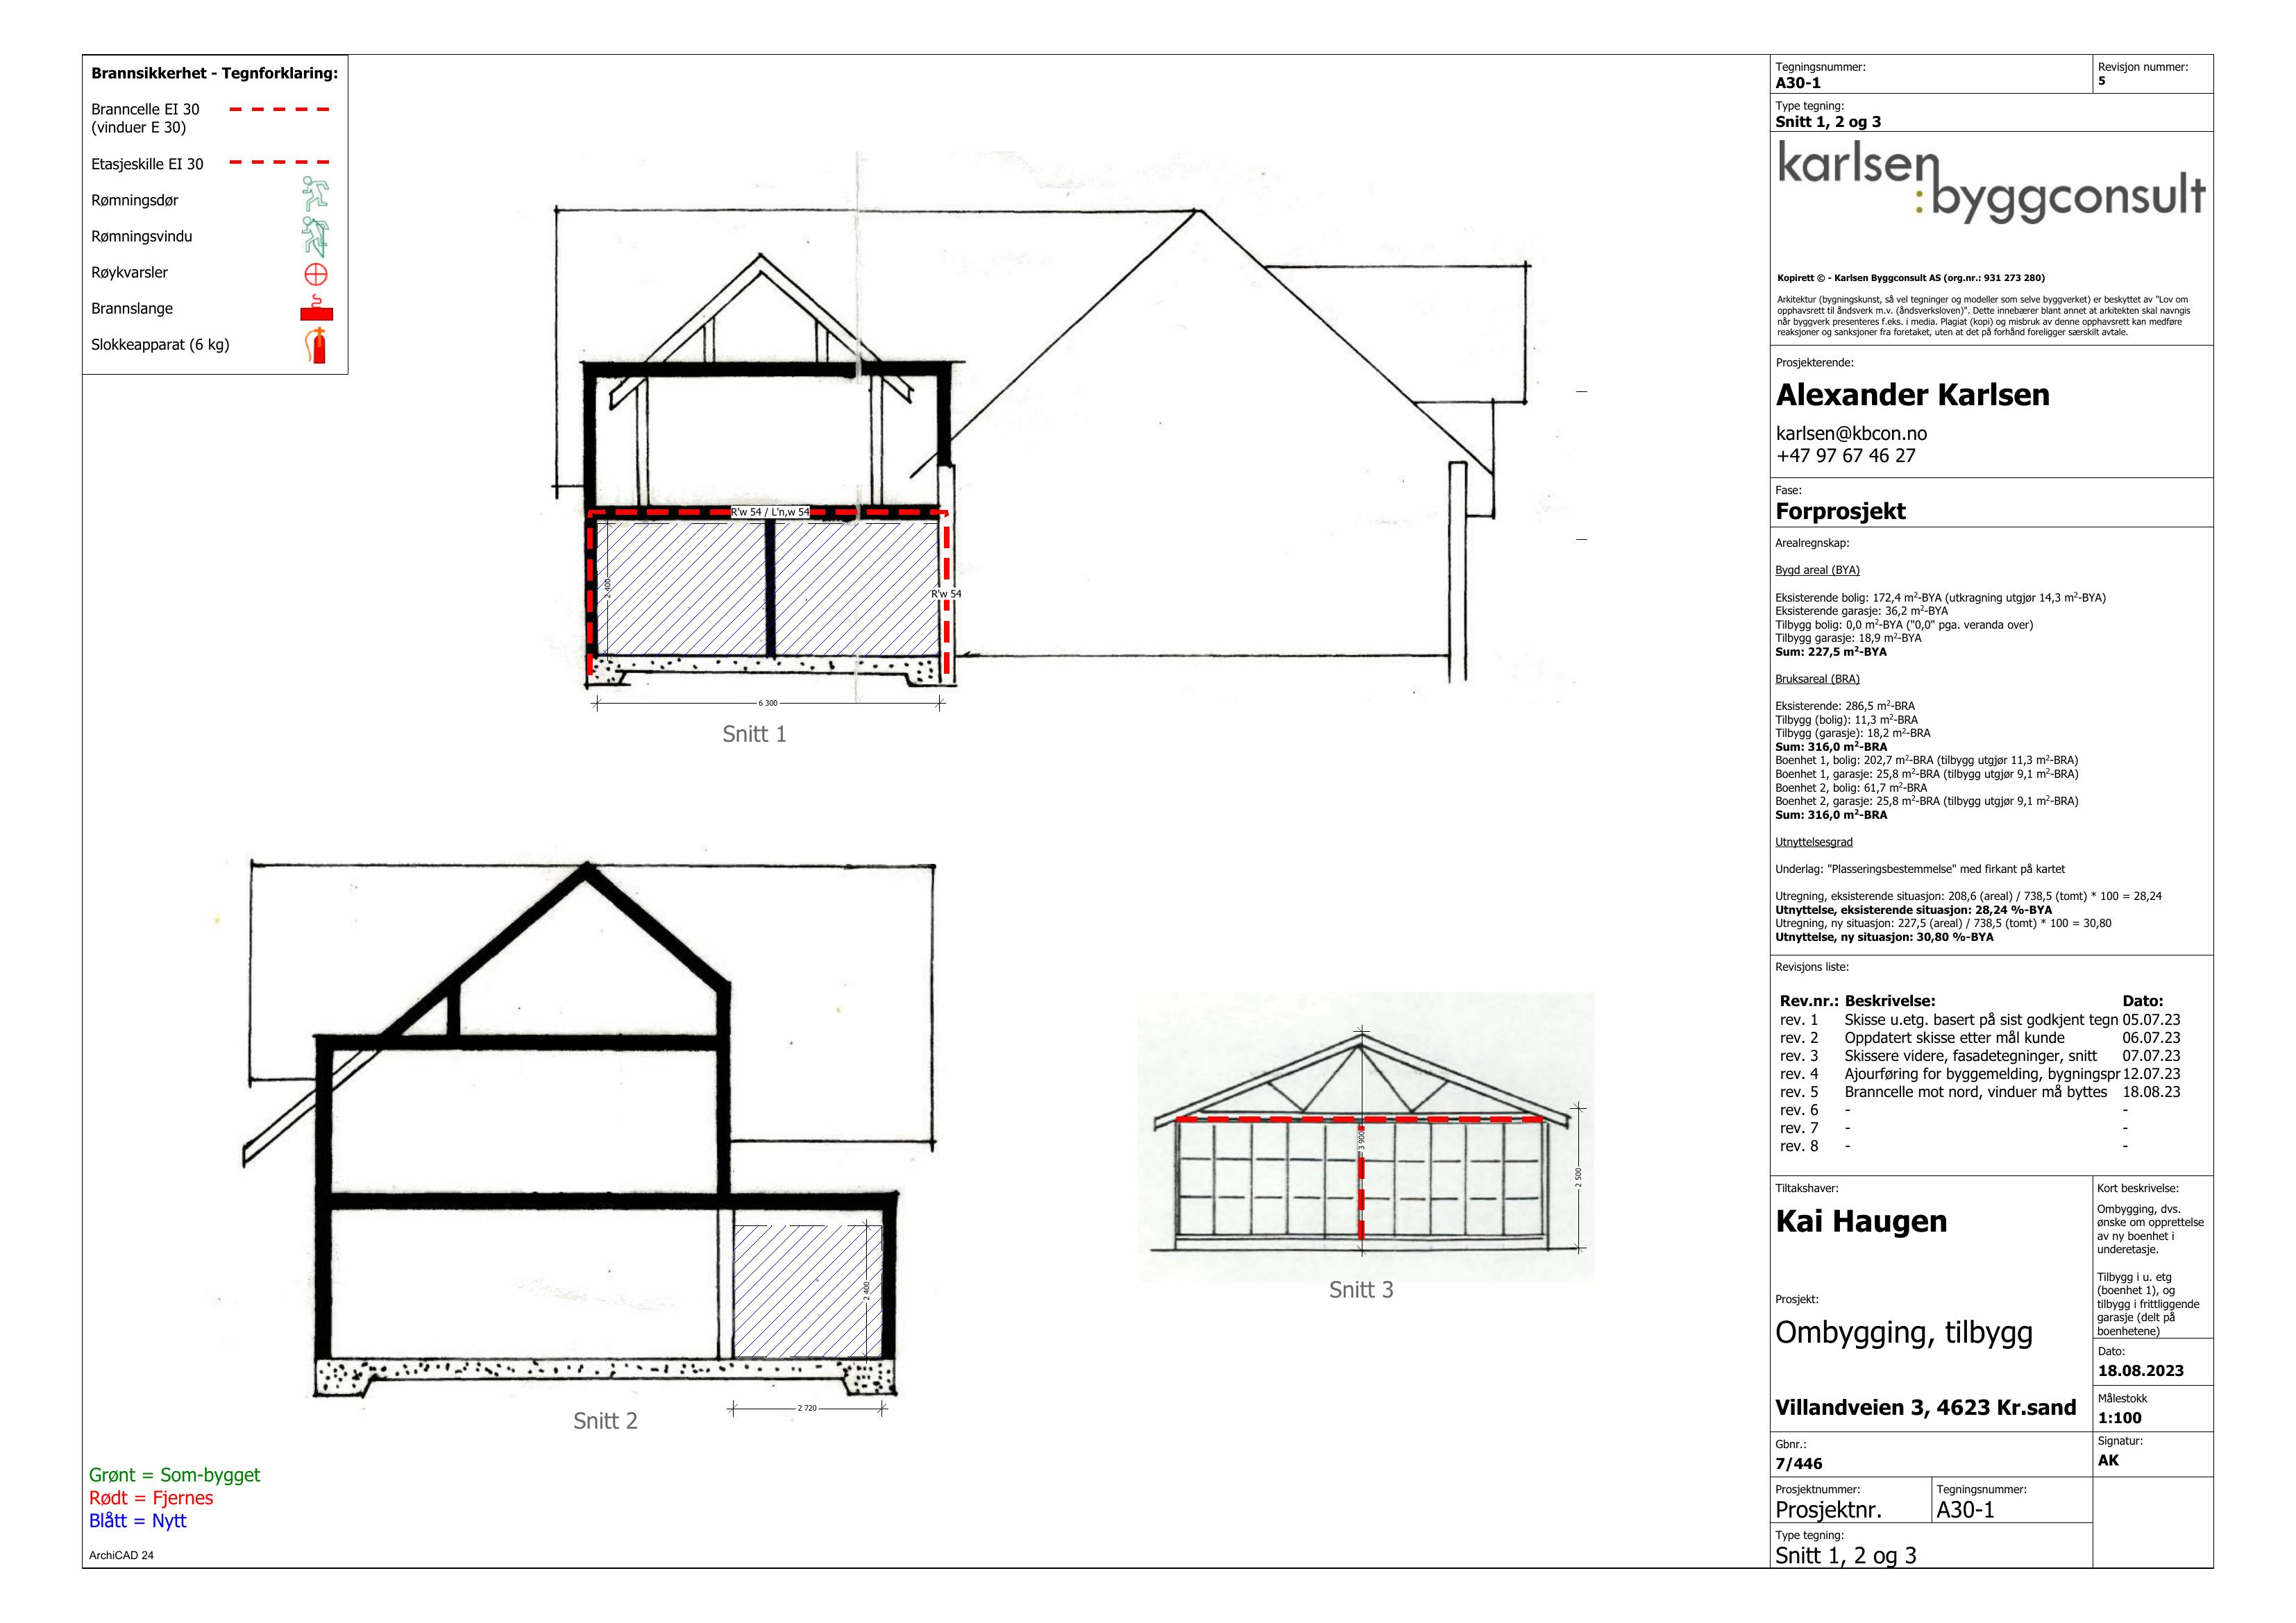snitt: (516, 153, 1535, 743), (206, 827, 966, 1417), (1119, 978, 1611, 1309)
